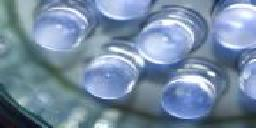LED: (162, 60, 222, 120), (138, 11, 202, 63), (79, 50, 140, 102), (30, 4, 86, 51), (210, 1, 256, 48)
